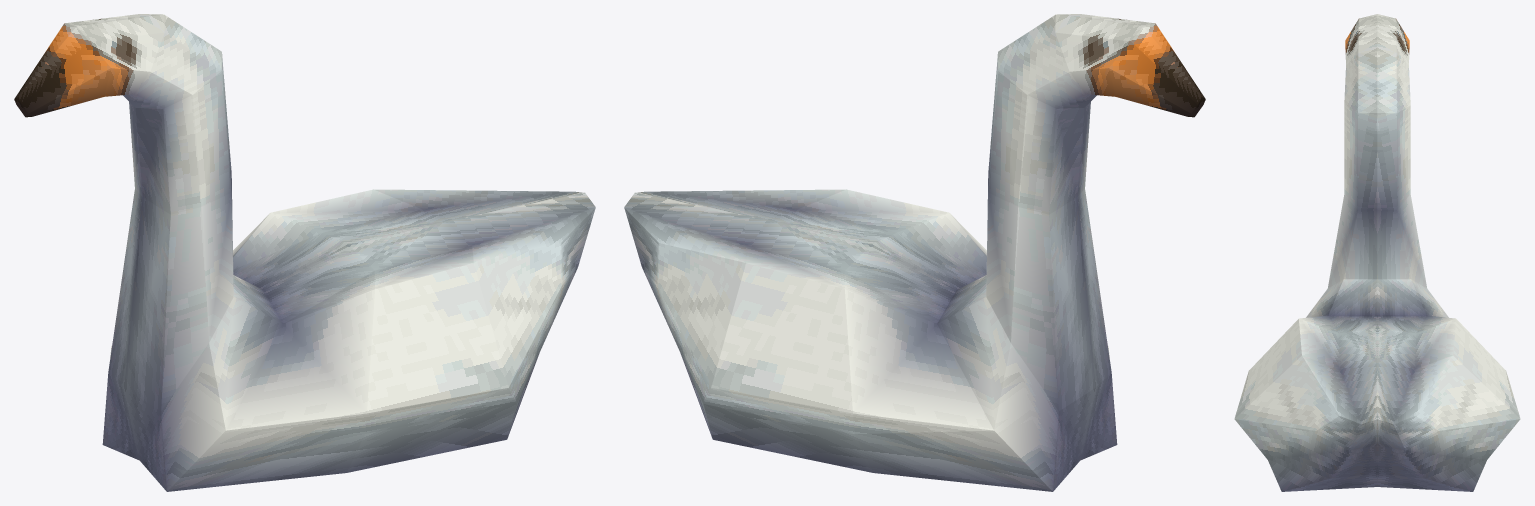
File: Swan.glb
The picture shows the model from 3 angles, left to right: view 1: azimuth 30°, elevation 25°; view 2: azimuth 150°, elevation 25°; view 3: azimuth 270°, elevation 25°; orthographic projection. The views are drawn at different scales.
Visible parts, largest first — view 1: Swan; view 2: Swan; view 3: Swan.
Part boxes in pixels (x1,y1,x2,y2): Swan: (14,14,595,491); Swan: (624,14,1205,491); Swan: (1234,14,1520,491).
Bounding box in the file's own units: 1.1 × 0.8496 × 0.6418.
Materials: 1 (1 with a texture image).
